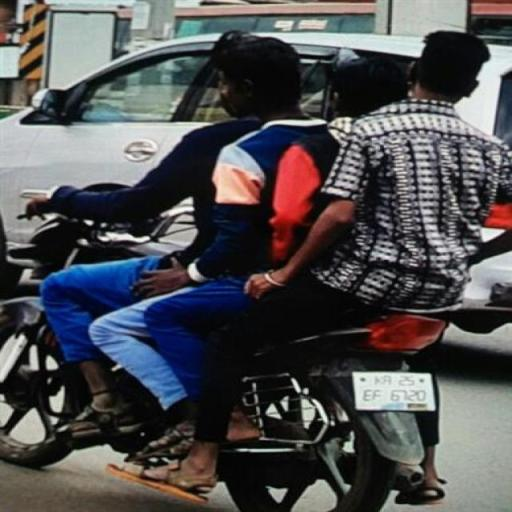tripple riding: (5, 28, 512, 300)
